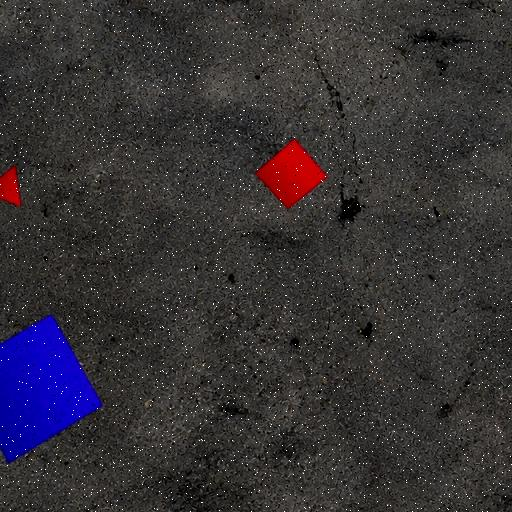BLUE_SQUARE: (0, 314, 104, 464)
RED_SQUARE: (254, 138, 329, 210)
